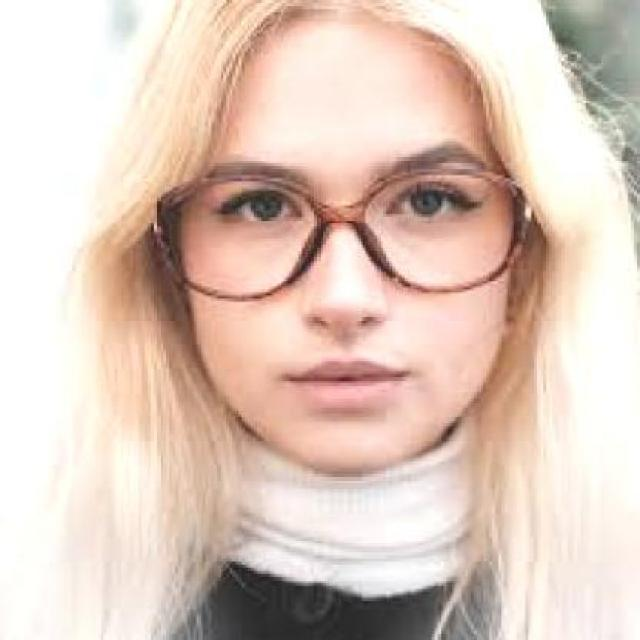glasses: (139, 162, 538, 300)
